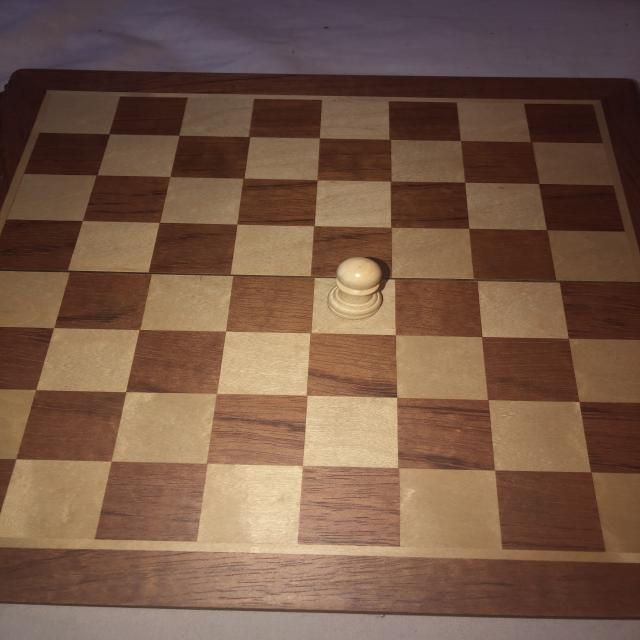white_pawn: (326, 252, 386, 324)
